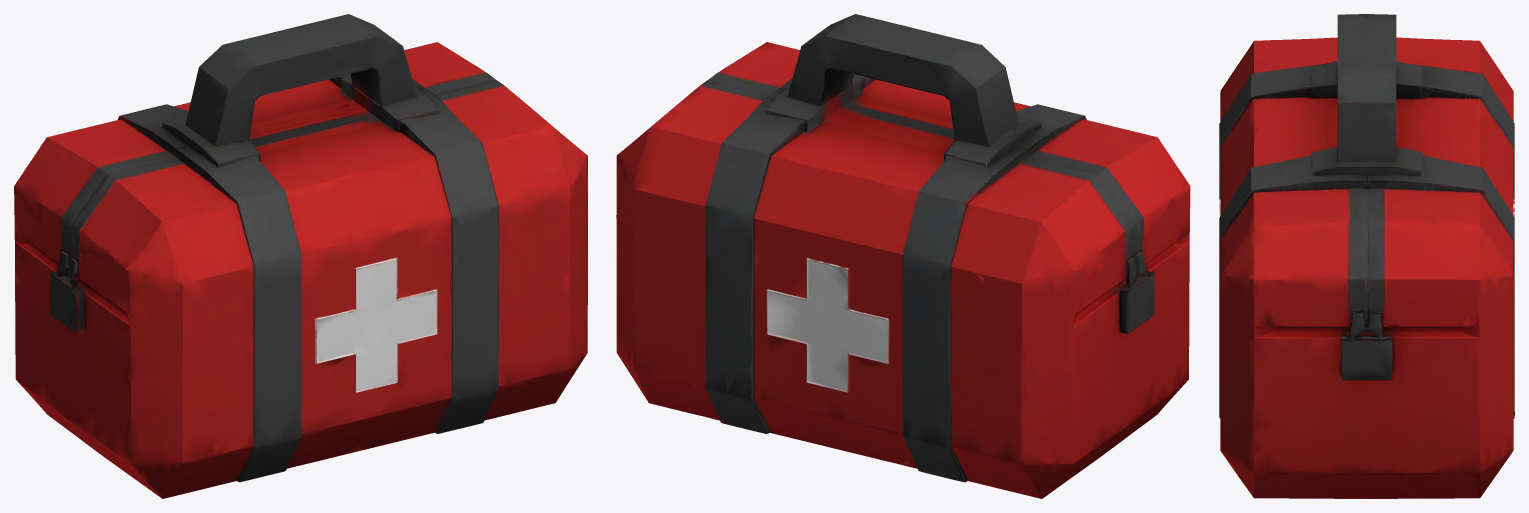
File: first-aid-bag-optimized.glb
3 views of the same model, side by side, from view 1: azimuth 30°, elevation 25°; view 2: azimuth 150°, elevation 25°; view 3: azimuth 270°, elevation 25° (orthographic). The views are drawn at different scales.
Visible parts, largest first — view 1: node_0; view 2: node_0; view 3: node_0.
Part boxes in pixels (x1=…): node_0: x1=14, y1=14, x2=587, y2=498; node_0: x1=616, y1=14, x2=1190, y2=498; node_0: x1=1219, y1=14, x2=1514, y2=498.
Bounding box in the file's own units: 1.01 × 0.7466 × 0.5542.
1 material, 1 textured.
